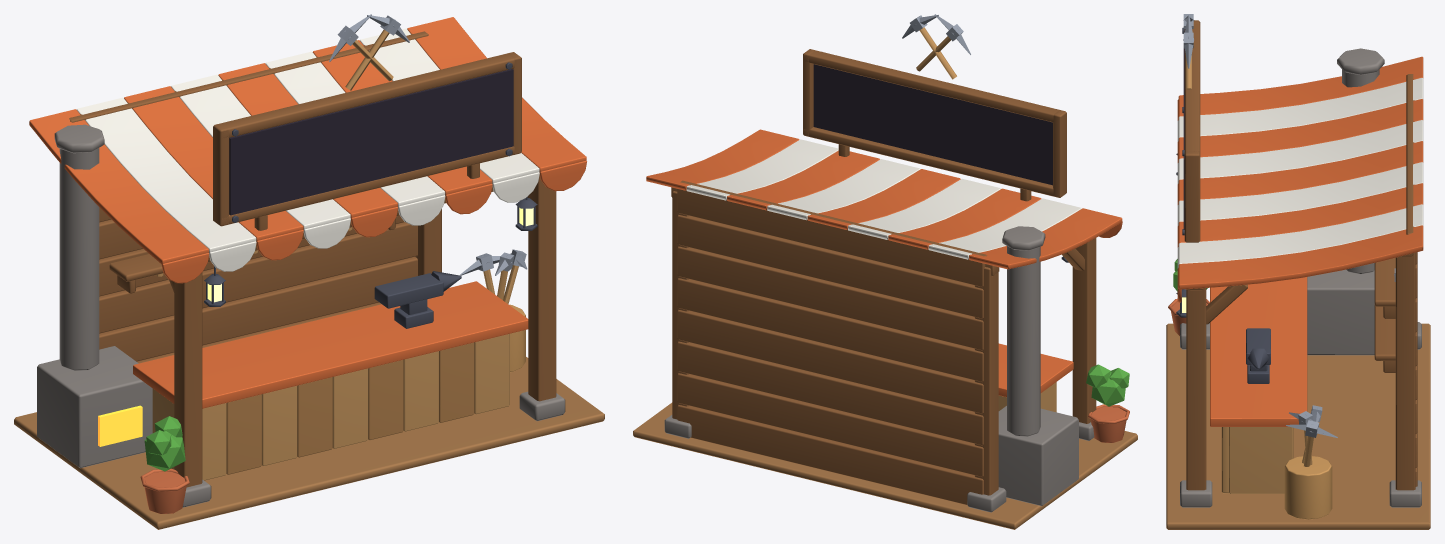
Rendered from stall-pickaxe.glb.
3 views of the same model, side by side, from view 1: azimuth 30°, elevation 25°; view 2: azimuth 150°, elevation 25°; view 3: azimuth 270°, elevation 25° (orthographic). The views are drawn at different scales.
Parts seen in each view (by area): view 1: StallPickaxe_Frame, StallPickaxe_Accent, StallPickaxe_SignBoard, StallPickaxe_Cloth, StallPickaxe_Floor, StallPickaxe_Forge, StallPickaxe_Counter, StallPickaxe_CounterAlt, StallPickaxe_Anvil, StallPickaxe_ToolMetal, StallPickaxe_Plant, StallPickaxe_Pot (+4 smaller); view 2: StallPickaxe_Frame, StallPickaxe_Accent, StallPickaxe_SignBoard, StallPickaxe_Forge, StallPickaxe_Cloth, StallPickaxe_Floor, StallPickaxe_Stone, StallPickaxe_Plant, StallPickaxe_Pot, StallPickaxe_ToolMetal, StallPickaxe_ToolWood; view 3: StallPickaxe_Accent, StallPickaxe_Floor, StallPickaxe_Cloth, StallPickaxe_Frame, StallPickaxe_Forge, StallPickaxe_Counter, StallPickaxe_Barrel, StallPickaxe_Stone, StallPickaxe_Anvil, StallPickaxe_ToolMetal, StallPickaxe_ToolWood, StallPickaxe_SignBoard (+1 smaller).
Boxes of the visible parts, x1,y1,x2,y2 form: StallPickaxe_Frame: (69, 31, 556, 487); StallPickaxe_Accent: (29, 17, 586, 408); StallPickaxe_SignBoard: (229, 69, 513, 215); StallPickaxe_Cloth: (77, 28, 539, 271); StallPickaxe_Floor: (14, 357, 604, 529); StallPickaxe_Forge: (37, 124, 152, 468); StallPickaxe_Counter: (152, 334, 509, 480); StallPickaxe_CounterAlt: (226, 342, 474, 474); StallPickaxe_Anvil: (374, 271, 461, 328); StallPickaxe_ToolMetal: (329, 14, 527, 275); StallPickaxe_Plant: (144, 416, 185, 471); StallPickaxe_Pot: (140, 468, 189, 513); StallPickaxe_Frame: (671, 49, 1096, 504); StallPickaxe_Accent: (646, 129, 1122, 397); StallPickaxe_SignBoard: (813, 64, 1052, 185); StallPickaxe_Forge: (998, 226, 1078, 506); StallPickaxe_Cloth: (686, 139, 1081, 259); StallPickaxe_Floor: (633, 402, 1137, 529); StallPickaxe_Stone: (664, 415, 1094, 512); StallPickaxe_Plant: (1086, 364, 1129, 406); StallPickaxe_Pot: (1088, 404, 1129, 442); StallPickaxe_ToolMetal: (902, 14, 970, 54); StallPickaxe_ToolWood: (916, 27, 956, 79); StallPickaxe_Accent: (1177, 56, 1423, 426); StallPickaxe_Floor: (1166, 323, 1430, 529); StallPickaxe_Cloth: (1177, 78, 1423, 268); StallPickaxe_Frame: (1184, 20, 1417, 490); StallPickaxe_Forge: (1307, 48, 1384, 355); StallPickaxe_Counter: (1221, 427, 1293, 493); StallPickaxe_Barrel: (1284, 456, 1332, 519); StallPickaxe_Stone: (1180, 322, 1421, 507); StallPickaxe_Anvil: (1246, 328, 1270, 383); StallPickaxe_ToolMetal: (1183, 14, 1395, 437); StallPickaxe_ToolWood: (1185, 54, 1313, 466); StallPickaxe_SignBoard: (1183, 48, 1184, 229).
Bounding box in the file's own units: 19.2 × 18.34 × 10.6.
